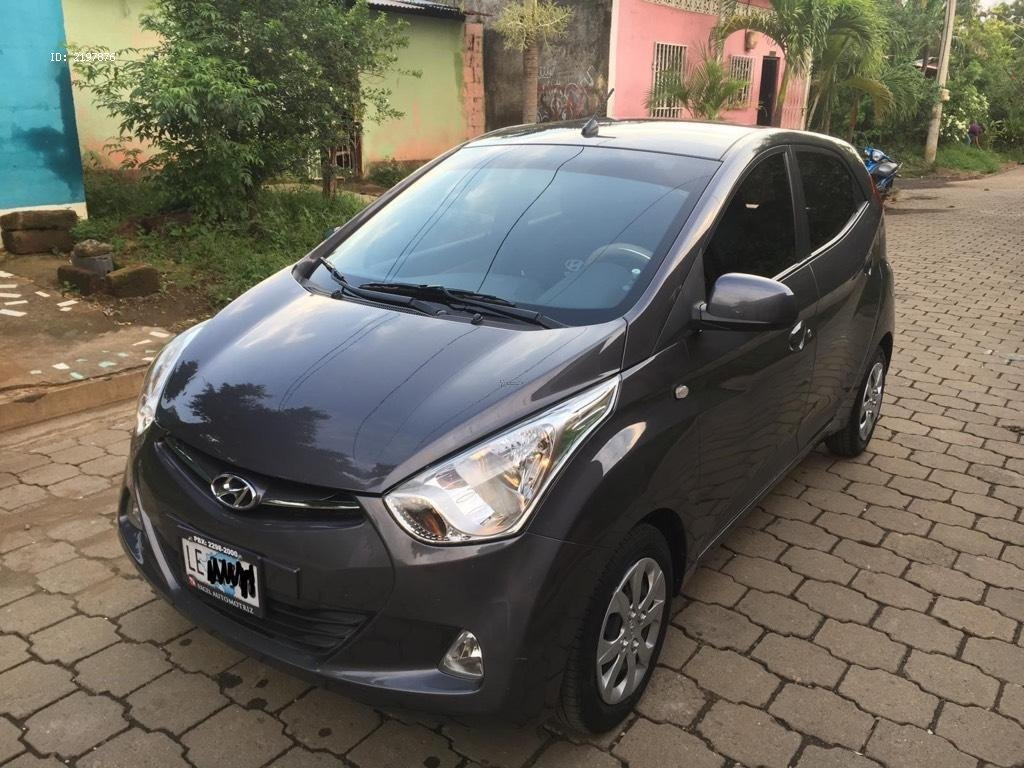eon: (100, 86, 911, 756)
